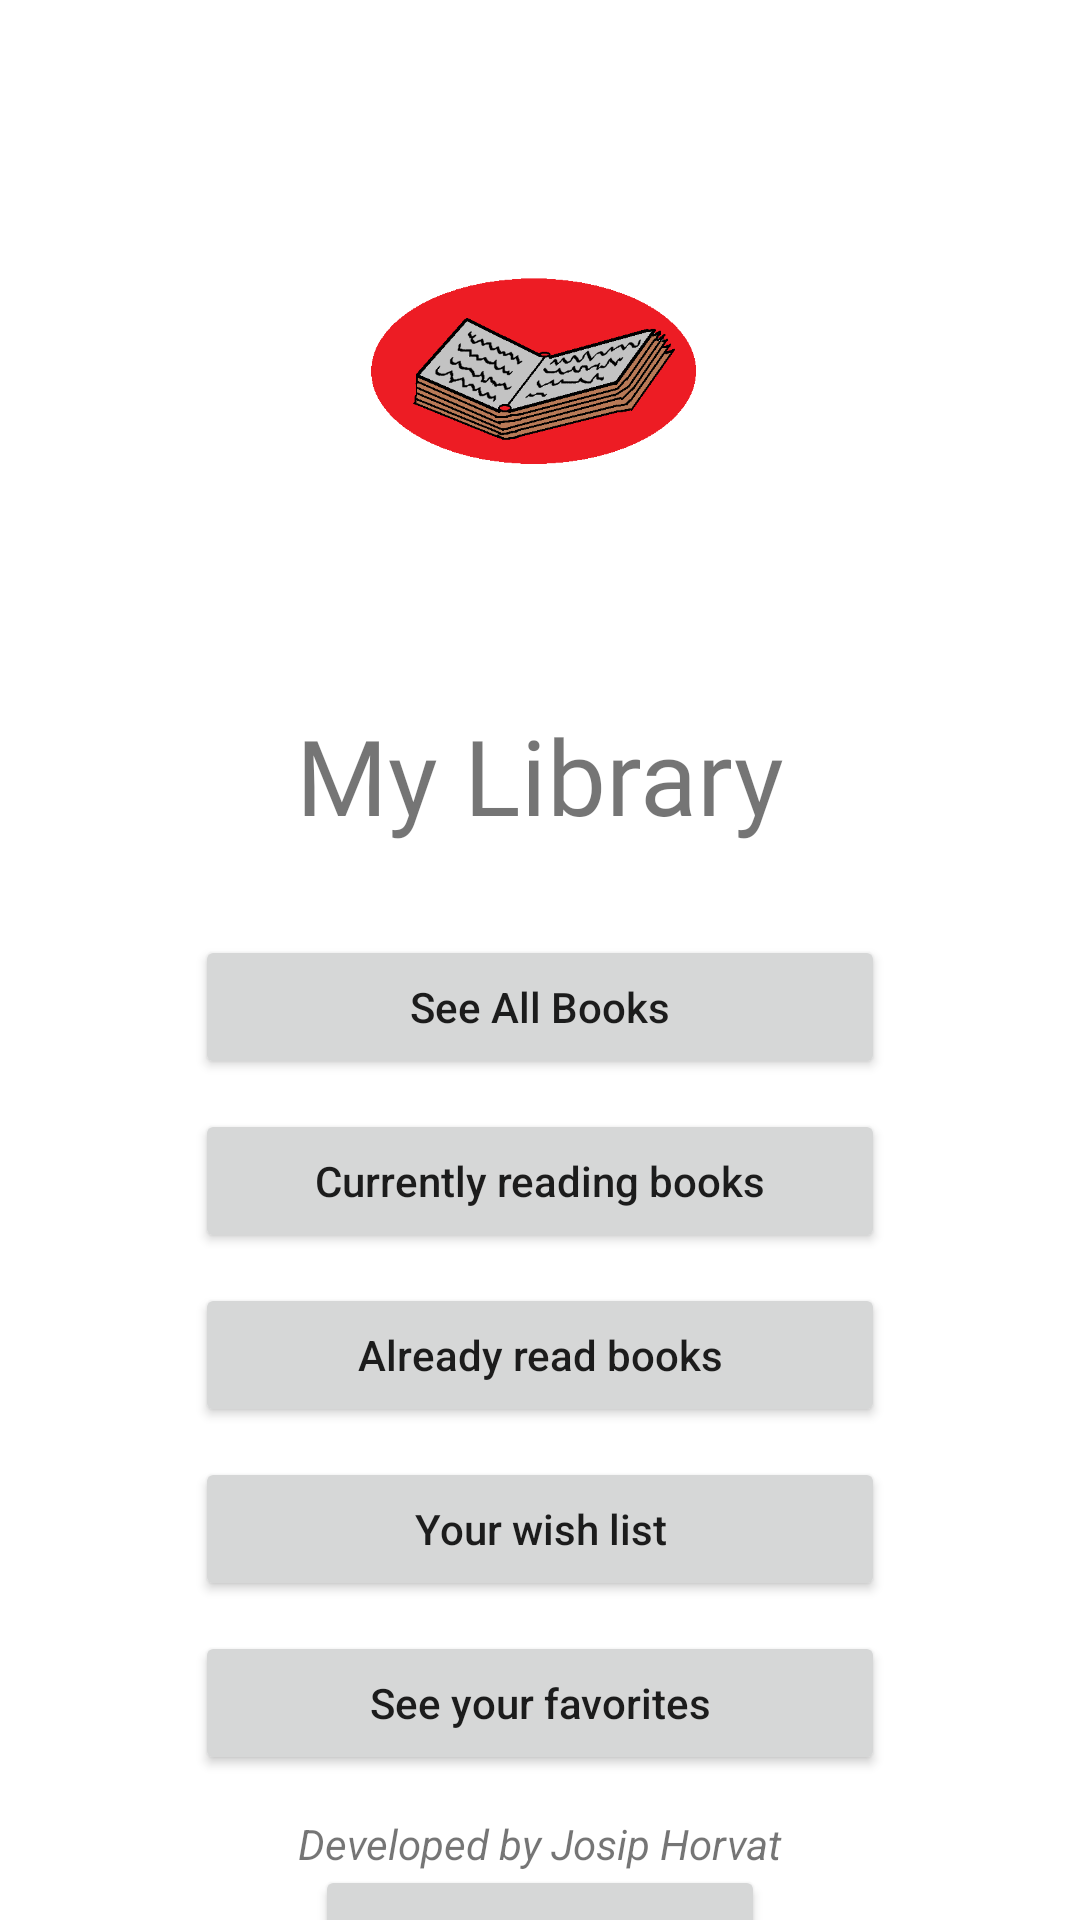

Screen size 1080px x 1920px. Icon name, then its box in pixels as (x1, y1, x2, y2):
mojaknjigapaint: (371, 278, 696, 464)
